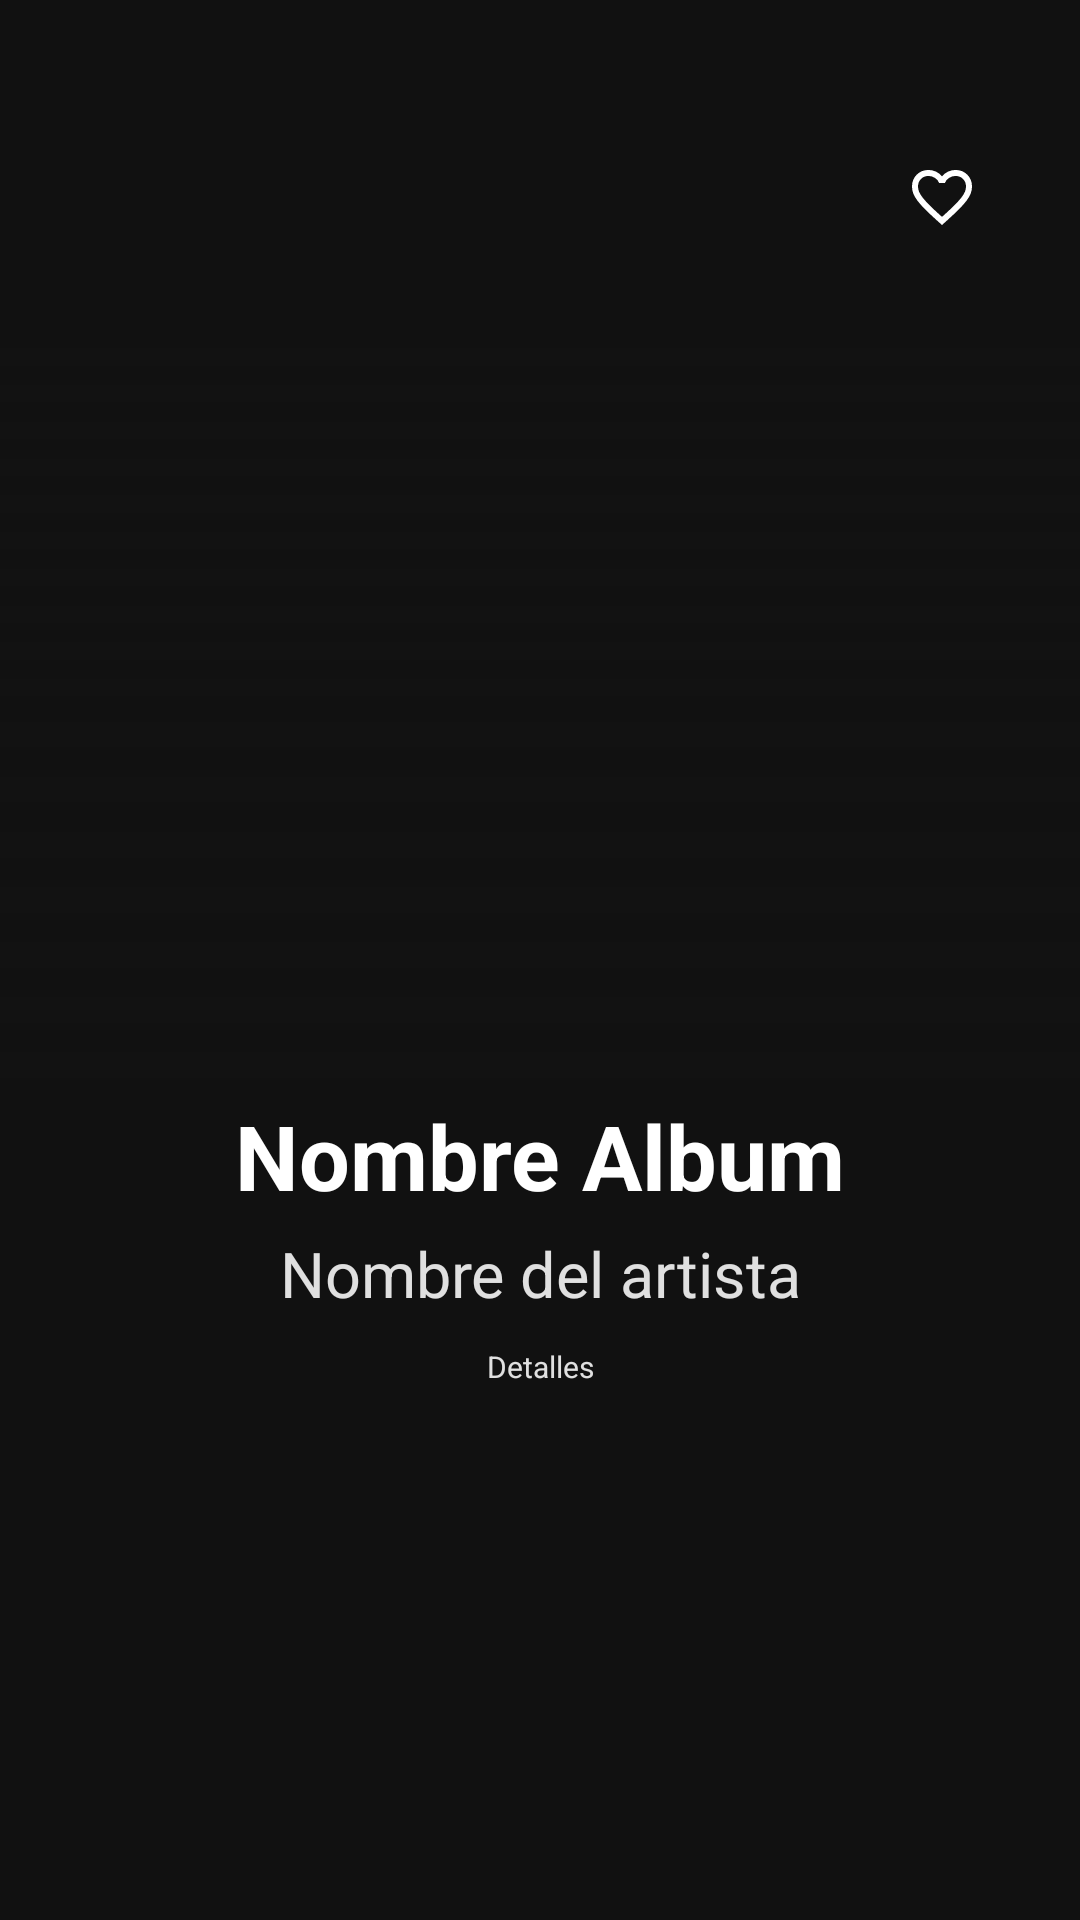

Where icons sit on this 1080*1920 app screen, as (x1, y1, x2, y2):
no favorito: (912, 170, 972, 225)
